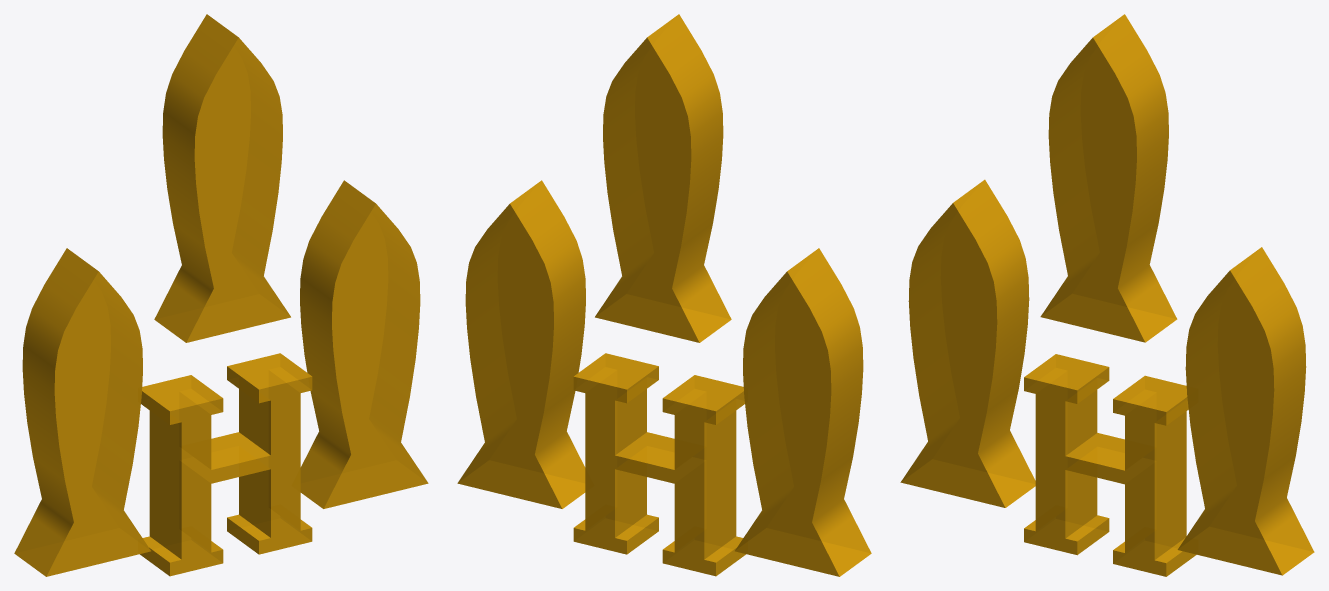
Rendered from Powerup_Helix.fbx.
3 views of the same model, side by side, from view 1: azimuth 30°, elevation 25°; view 2: azimuth 150°, elevation 25°; view 3: azimuth 330°, elevation 25° (orthographic).
Parts seen in each view (by area): view 1: polySurface6; view 2: polySurface6; view 3: polySurface6.
Part boxes in pixels (box(x1,y1,x2,y2)): polySurface6: box(14, 14, 428, 576); polySurface6: box(457, 14, 871, 576); polySurface6: box(900, 14, 1314, 576).
Size of the model in its own units: 4.07 by 5.31 by 0.5901.
